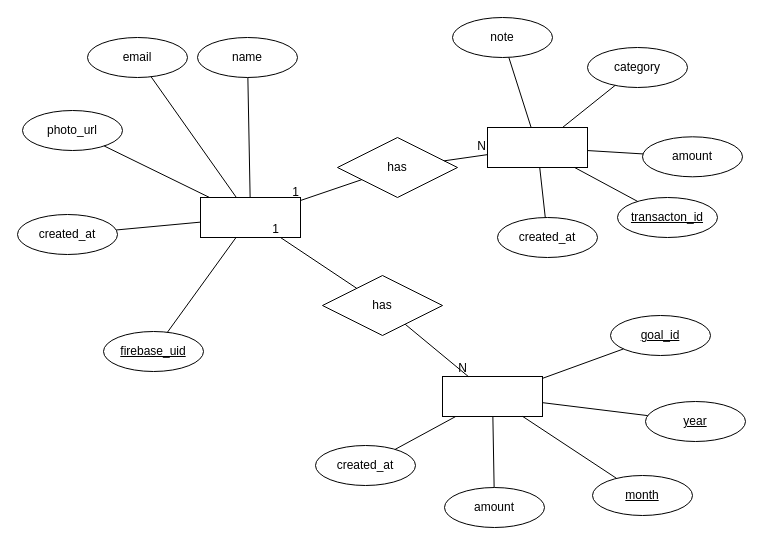
Some shapes in this 763 by 545 pixel diagram are drawn without their labels. The shapes that lost their labels are listed below. From the top down, each one's centre as x and y in pixels, then its label:
At point 537,147: "Transaction".
At point 250,217: "User".
At point 492,396: "Goal".
